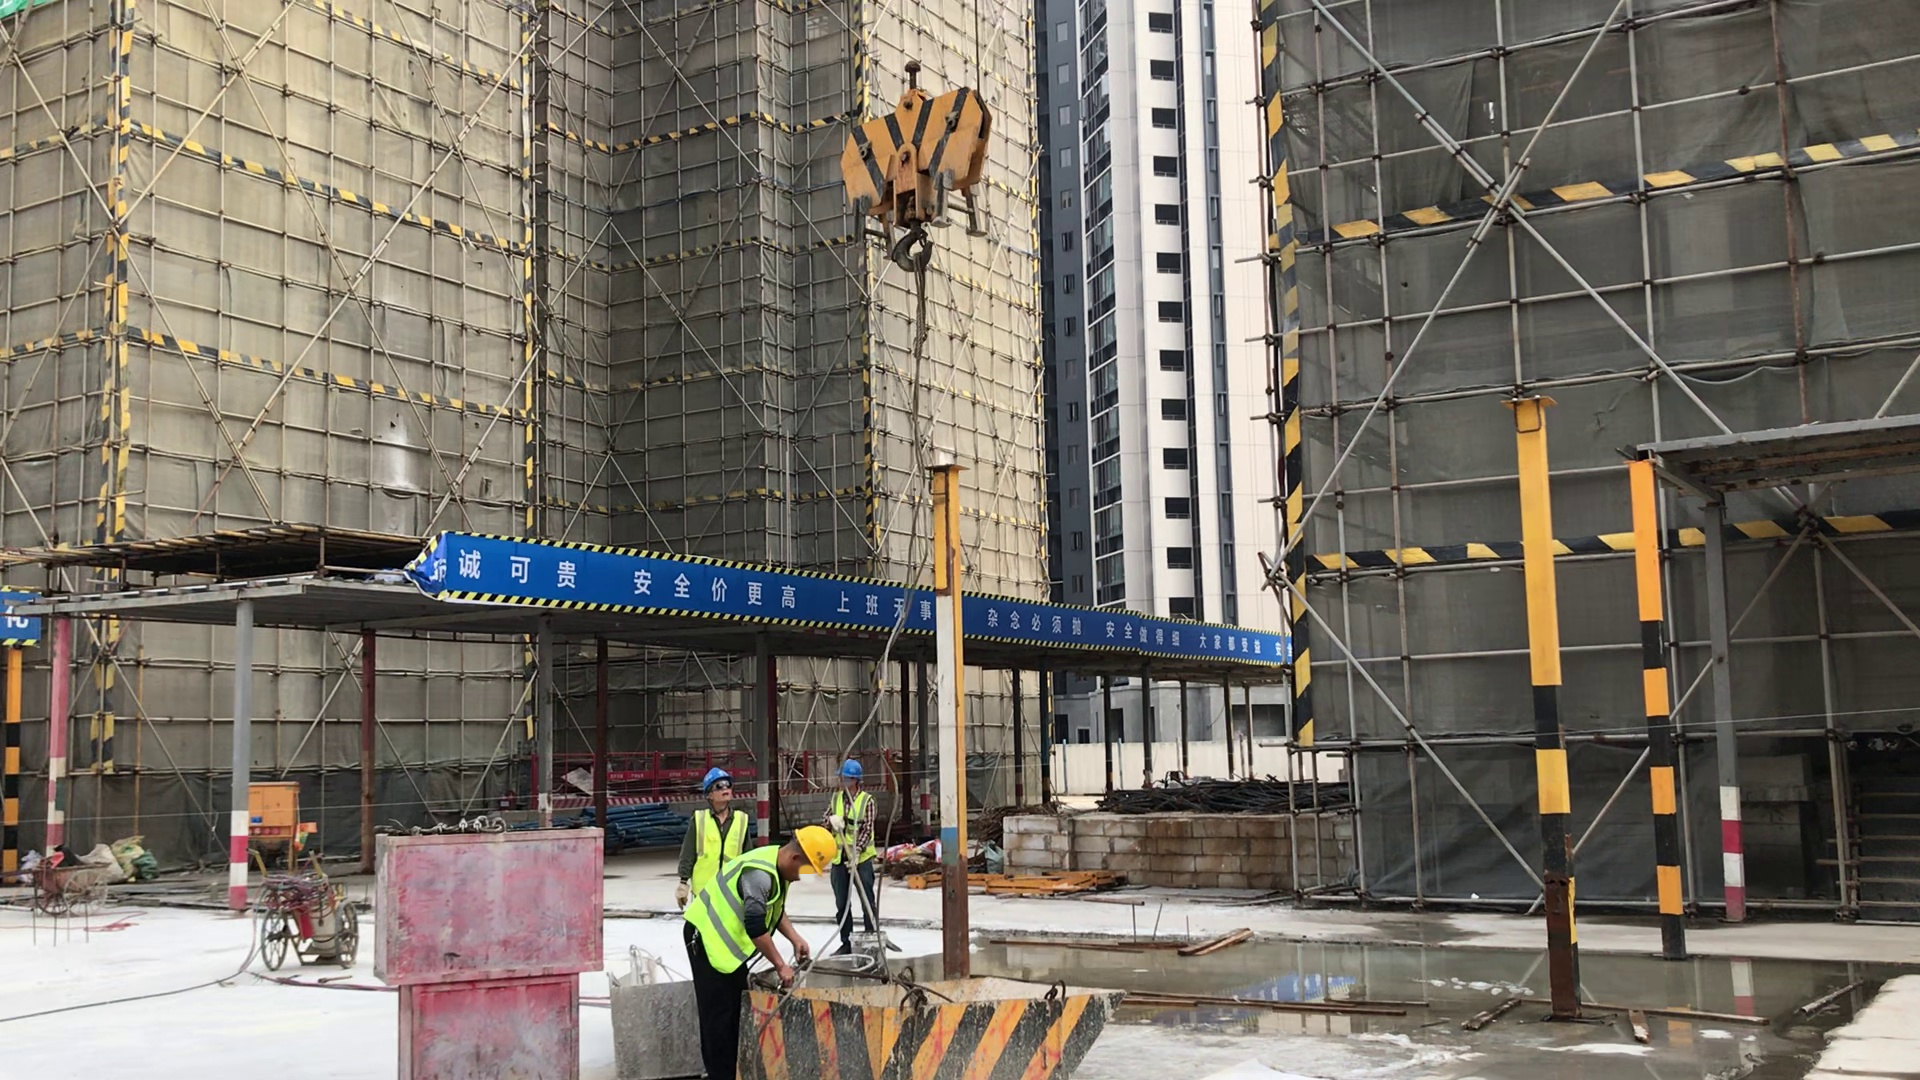ebox: (254, 777, 305, 872)
fence: (610, 750, 700, 801), (555, 752, 592, 808), (781, 751, 828, 793)
handcart: (244, 843, 365, 974), (1, 853, 104, 913)
helmet: (789, 823, 836, 875), (700, 768, 732, 794), (835, 758, 865, 783)
hook: (840, 57, 993, 269)
hopper: (741, 969, 1129, 1080), (606, 946, 686, 1080)
person: (678, 820, 833, 1080), (828, 754, 892, 946), (674, 767, 759, 908)
slogan: (450, 537, 937, 638), (963, 600, 1285, 669)
vest: (681, 844, 790, 975), (688, 807, 747, 894), (831, 791, 876, 868)
